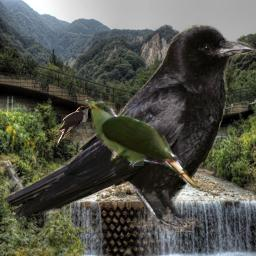Crow: (1, 24, 256, 232)
Cuckoo: (83, 100, 200, 189), (56, 105, 92, 148)
